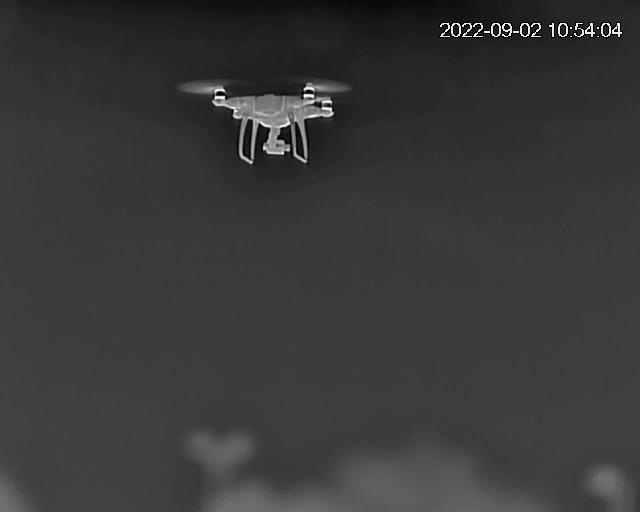DJI-Phantom: (180, 78, 352, 165)
